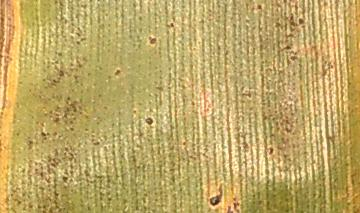tarspot: (205, 190, 224, 209), (147, 31, 158, 49), (142, 115, 156, 127), (112, 66, 123, 79), (295, 16, 308, 27), (254, 2, 266, 13), (267, 143, 275, 159)
